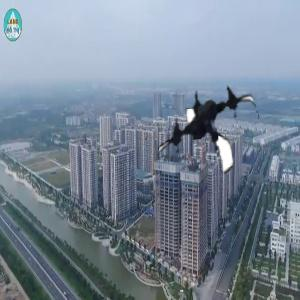drone: (155, 76, 263, 184)
